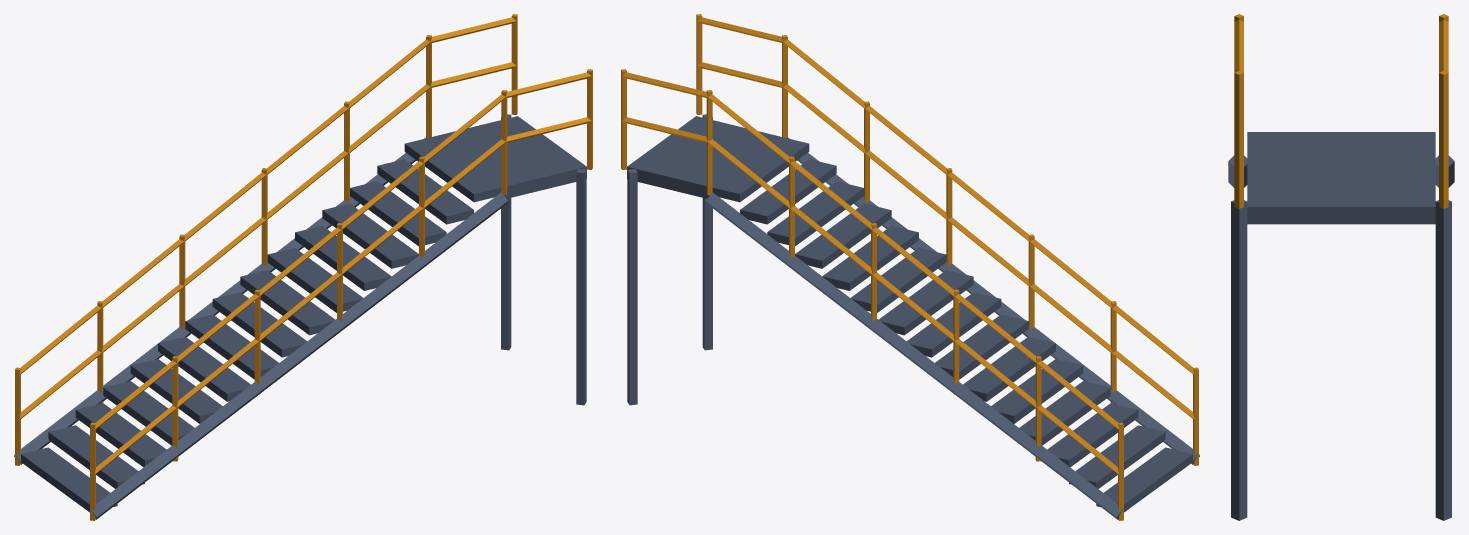
File: build_site_office_stairs.glb
3 renders of one model, left to right at view 1: azimuth 30°, elevation 25°; view 2: azimuth 150°, elevation 25°; view 3: azimuth 270°, elevation 25°, orthographic. The views are drawn at different scales.
Visible parts, largest first — view 1: steel_grating, hivis, metal; view 2: steel_grating, hivis, metal; view 3: steel_grating, metal, hivis.
Boxes of the visible parts, x1,y1,x2,y2 form: steel_grating: (21, 116, 586, 512); hivis: (15, 14, 592, 520); metal: (14, 114, 586, 519); steel_grating: (627, 116, 1192, 512); hivis: (621, 14, 1198, 520); metal: (627, 114, 1199, 519); steel_grating: (1247, 132, 1435, 224); metal: (1228, 155, 1454, 520); hivis: (1234, 14, 1448, 208).
Size of the model in its own units: 5.87 by 3.69 by 1.68.
